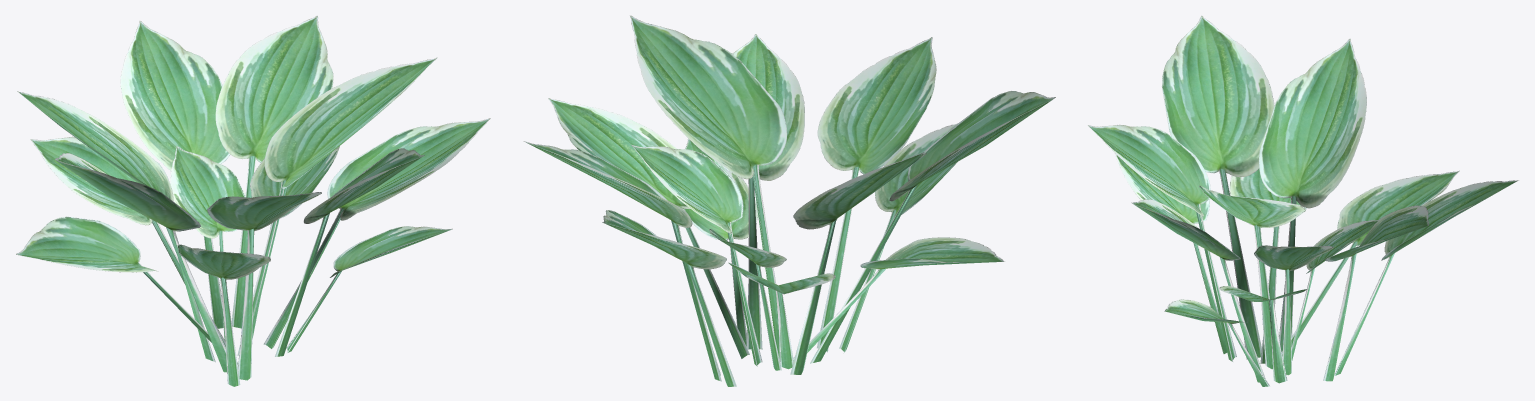
Rendered from plant_small_wg_03F.fbx.
3 views of the same model, side by side, from view 1: azimuth 30°, elevation 25°; view 2: azimuth 150°, elevation 25°; view 3: azimuth 270°, elevation 25° (orthographic). The views are drawn at different scales.
Visible parts, largest first — view 1: plant_small_wg_03F; view 2: plant_small_wg_03F; view 3: plant_small_wg_03F.
Boxes of the visible parts, left/top/right/bottom form: plant_small_wg_03F: left=16, top=15, right=490, bottom=386; plant_small_wg_03F: left=523, top=15, right=1055, bottom=386; plant_small_wg_03F: left=1088, top=15, right=1518, bottom=386.
Bounding box in the file's own units: 80.68 × 46.87 × 72.67.
